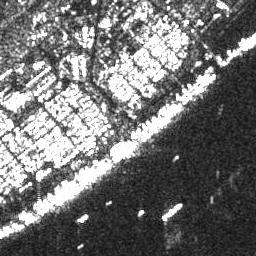ship: (159, 201, 183, 221), (75, 212, 88, 225), (137, 208, 144, 218), (105, 199, 113, 207), (77, 243, 84, 249)
